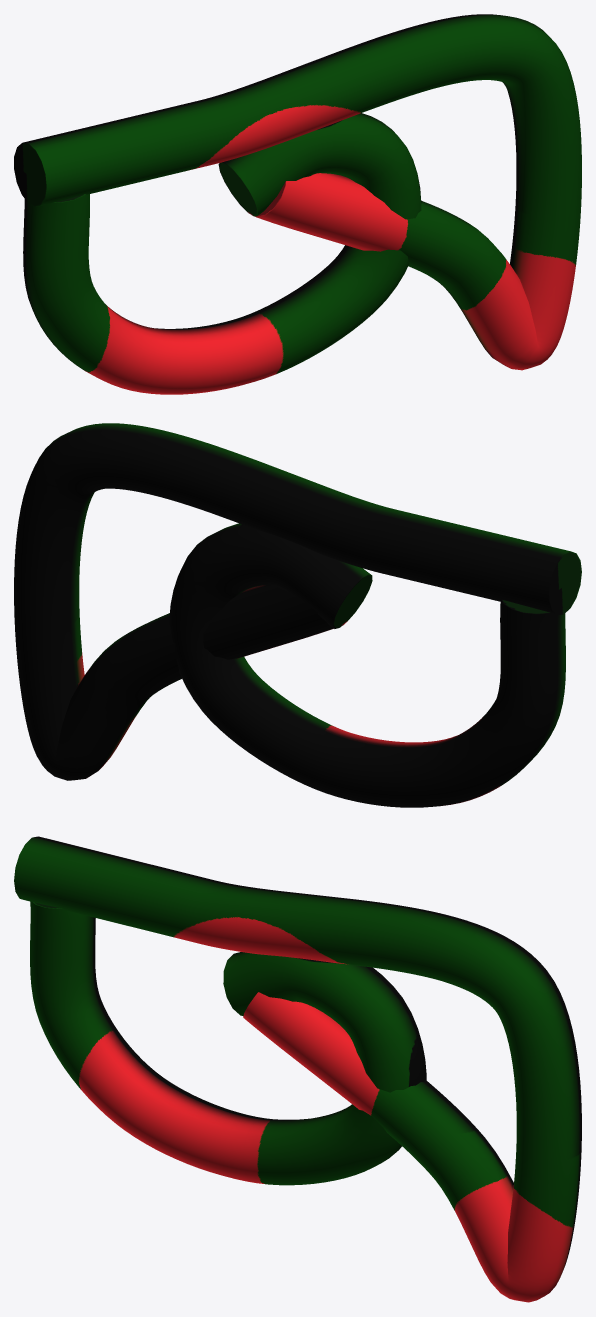
3 renders of one model, top to bottom at view 1: azimuth 30°, elevation 25°; view 2: azimuth 150°, elevation 25°; view 3: azimuth 330°, elevation 25°, orthographic.
Visible parts, largest first — view 1: node_id68; view 2: node_id68; view 3: node_id68.
Part boxes in pixels (box(x1,y1,x2,y2)): node_id68: box(14, 14, 581, 394); node_id68: box(14, 423, 581, 807); node_id68: box(14, 836, 581, 1302).
Size of the model in its own units: 0.5743 by 0.3652 by 0.0673.
Materials: 2 (2 with a texture image).
